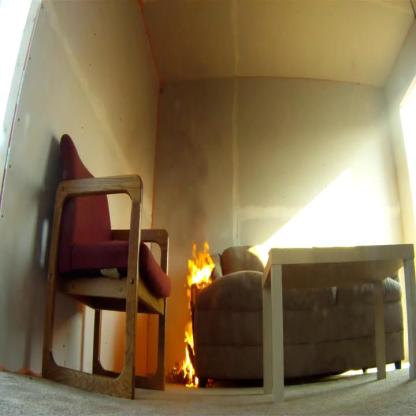fire: (180, 237, 216, 393)
